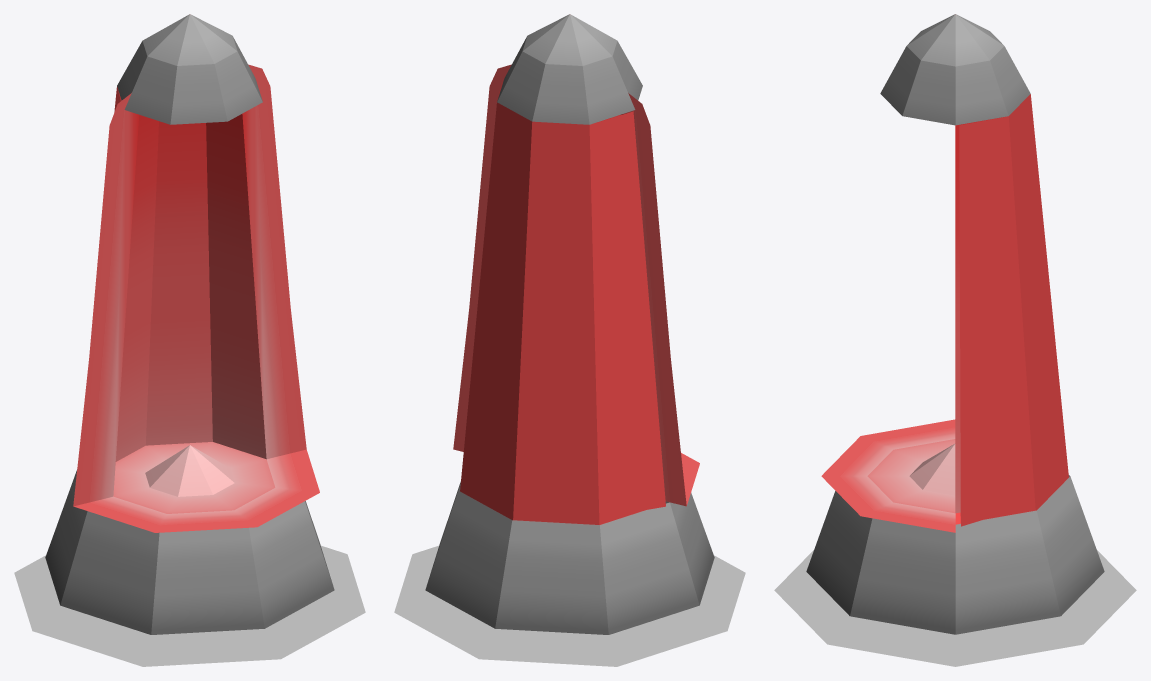
Rendered from iroirolight.obj.
3 views of the same model, side by side, from view 1: azimuth 30°, elevation 25°; view 2: azimuth 150°, elevation 25°; view 3: azimuth 270°, elevation 25° (orthographic).
Visible parts, largest first — view 1: polySurface3.002_polySurface3.002_iroirolight.png, polySurface3.002_polySurface3.002_shadow1.png.102; view 2: polySurface3.002_polySurface3.002_iroirolight.png, polySurface3.002_polySurface3.002_shadow1.png.102; view 3: polySurface3.002_polySurface3.002_iroirolight.png, polySurface3.002_polySurface3.002_shadow1.png.102.
Boxes of the visible parts, x1=… form: polySurface3.002_polySurface3.002_iroirolight.png: x1=45, y1=14, x2=334, y2=634; polySurface3.002_polySurface3.002_shadow1.png.102: x1=14, y1=545, x2=365, y2=666; polySurface3.002_polySurface3.002_iroirolight.png: x1=425, y1=14, x2=714, y2=634; polySurface3.002_polySurface3.002_shadow1.png.102: x1=394, y1=545, x2=745, y2=666; polySurface3.002_polySurface3.002_iroirolight.png: x1=806, y1=14, x2=1104, y2=634; polySurface3.002_polySurface3.002_shadow1.png.102: x1=774, y1=550, x2=1136, y2=666.
Size of the model in its own units: 1.34 by 2.35 by 1.34.
